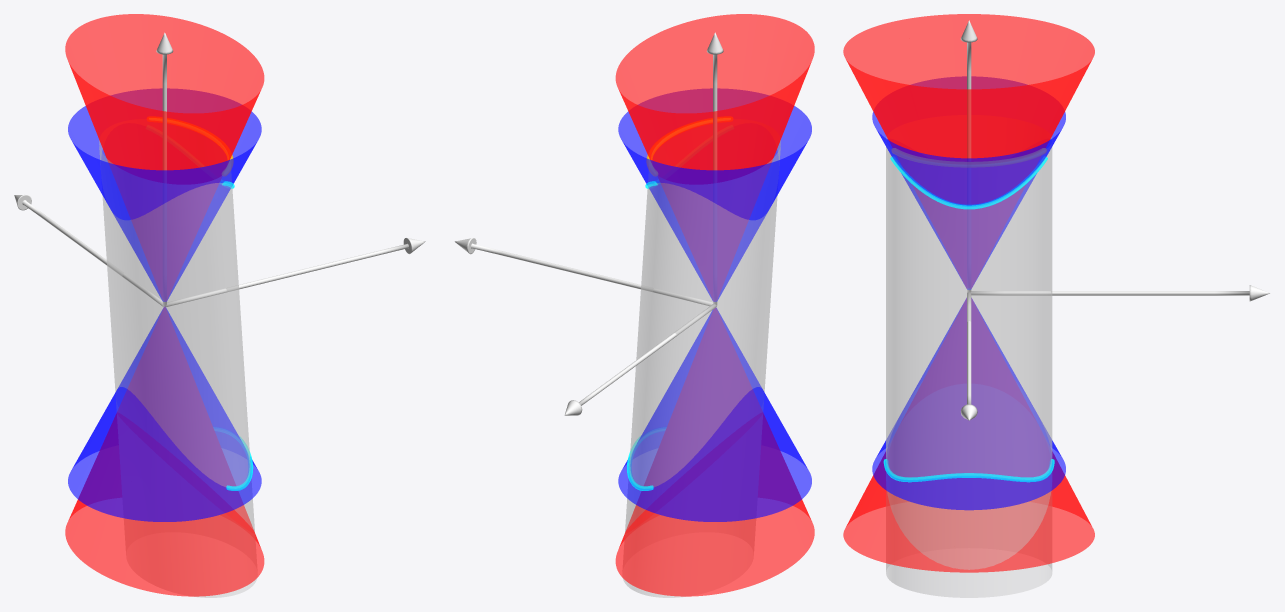
3 renders of one model, left to right at view 1: azimuth 30°, elevation 25°; view 2: azimuth 150°, elevation 25°; view 3: azimuth 270°, elevation 25°, orthographic.
Parts seen in each view (by area): view 1: Cone.002, Cone.017, Cone.016, Cone, Cone.010, Cylinder, Cylinder.002, Cylinder.001; view 2: Cone.002, Cone.017, Cone.016, Cone, Cone.010, Cylinder, Cylinder.002, Cylinder.001; view 3: Cone.002, Cone.016, Cone, Cone.017, Cone.010, Cylinder.002, Cone.006, Cone.005, Cone.004, Cylinder, Cylinder.001.
Part boxes in pixels (bbox=[...]): Cone.002: bbox=[99, 140, 257, 597]; Cone.017: bbox=[65, 307, 264, 596]; Cone.016: bbox=[65, 14, 264, 298]; Cone: bbox=[68, 306, 261, 521]; Cone.010: bbox=[68, 88, 261, 301]; Cylinder: bbox=[165, 238, 425, 306]; Cylinder.002: bbox=[14, 194, 164, 306]; Cylinder.001: bbox=[156, 32, 173, 306]; Cone.002: bbox=[622, 140, 780, 597]; Cone.017: bbox=[615, 308, 814, 596]; Cone.016: bbox=[615, 14, 814, 298]; Cone: bbox=[618, 308, 811, 521]; Cone.010: bbox=[618, 88, 811, 301]; Cylinder: bbox=[454, 238, 712, 305]; Cylinder.002: bbox=[564, 304, 716, 415]; Cylinder.001: bbox=[707, 32, 723, 304]; Cone.002: bbox=[886, 137, 1052, 597]; Cone.016: bbox=[843, 14, 1094, 287]; Cone: bbox=[872, 298, 1065, 510]; Cone.017: bbox=[843, 299, 1094, 572]; Cone.010: bbox=[872, 76, 1065, 289]; Cylinder.002: bbox=[971, 285, 1269, 301]; Cone.006: bbox=[883, 459, 1054, 482]; Cone.005: bbox=[890, 156, 1047, 209]; Cone.004: bbox=[891, 148, 1046, 167]; Cylinder: bbox=[960, 292, 977, 420]; Cylinder.001: bbox=[961, 20, 977, 292].
Size of the model in its own units: 3.93 by 5.88 by 4.22.
